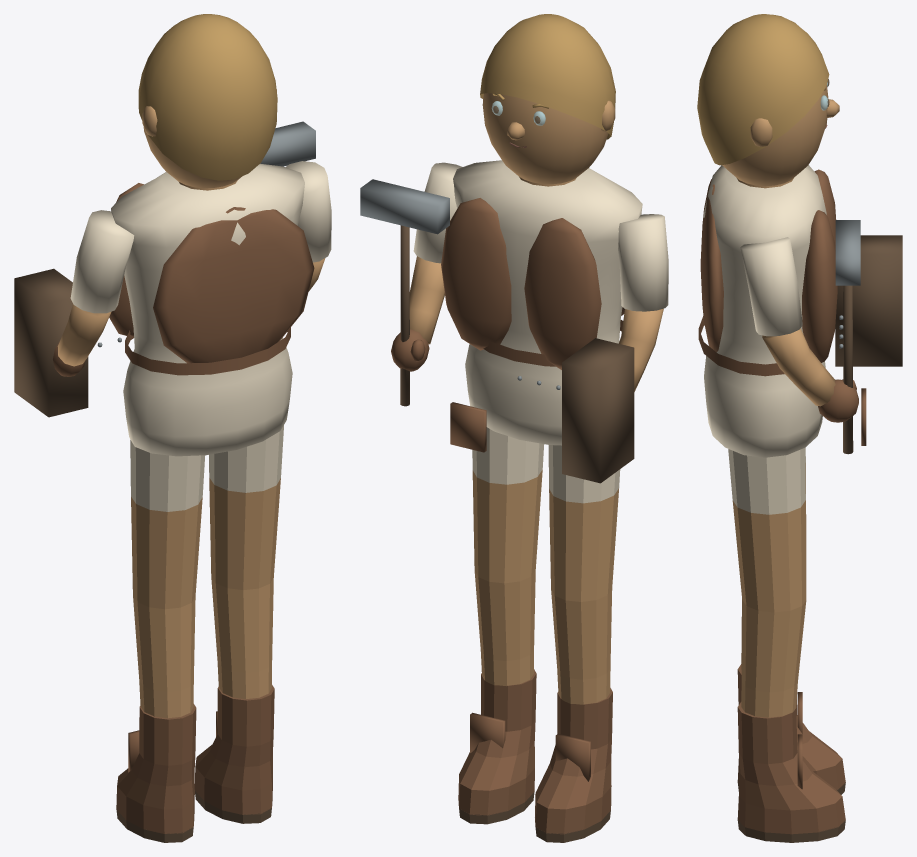
File: SM_NPC_NACAR.glb
The picture shows the model from 3 angles, left to right: view 1: azimuth 30°, elevation 25°; view 2: azimuth 150°, elevation 25°; view 3: azimuth 270°, elevation 25°; orthographic projection. The views are drawn at different scales.
Parts seen in each view (by area): view 1: SM_NPC_NACAR_BODY, SM_NPC_NACAR_LEG_L, SM_NPC_NACAR_LEG_R, SM_NPC_NACAR_HAIR, SM_NPC_NACAR_ARM_L, SM_NPC_NACAR_ARM_R, SM_NPC_NACAR_HEAD; view 2: SM_NPC_NACAR_BODY, SM_NPC_NACAR_LEG_R, SM_NPC_NACAR_LEG_L, SM_NPC_NACAR_ARM_L, SM_NPC_NACAR_HAIR, SM_NPC_NACAR_ARM_R, SM_NPC_NACAR_HEAD; view 3: SM_NPC_NACAR_BODY, SM_NPC_NACAR_LEG_R, SM_NPC_NACAR_HAIR, SM_NPC_NACAR_ARM_R, SM_NPC_NACAR_ARM_L, SM_NPC_NACAR_HEAD, SM_NPC_NACAR_LEG_L.
Part boxes in pixels (bbox=[...]): SM_NPC_NACAR_BODY: bbox=[97, 163, 314, 456]; SM_NPC_NACAR_LEG_L: bbox=[116, 440, 205, 842]; SM_NPC_NACAR_LEG_R: bbox=[194, 425, 283, 823]; SM_NPC_NACAR_HAIR: bbox=[138, 14, 277, 180]; SM_NPC_NACAR_ARM_L: bbox=[14, 210, 134, 417]; SM_NPC_NACAR_ARM_R: bbox=[260, 121, 331, 291]; SM_NPC_NACAR_HEAD: bbox=[142, 89, 276, 188]; SM_NPC_NACAR_BODY: bbox=[441, 160, 642, 452]; SM_NPC_NACAR_LEG_R: bbox=[458, 427, 544, 824]; SM_NPC_NACAR_LEG_L: bbox=[535, 445, 620, 842]; SM_NPC_NACAR_ARM_L: bbox=[562, 214, 668, 483]; SM_NPC_NACAR_HAIR: bbox=[480, 14, 615, 139]; SM_NPC_NACAR_ARM_R: bbox=[360, 162, 462, 406]; SM_NPC_NACAR_HEAD: bbox=[482, 93, 615, 184]; SM_NPC_NACAR_BODY: bbox=[698, 165, 866, 457]; SM_NPC_NACAR_LEG_R: bbox=[728, 447, 845, 842]; SM_NPC_NACAR_HAIR: bbox=[697, 14, 829, 165]; SM_NPC_NACAR_ARM_R: bbox=[740, 220, 860, 454]; SM_NPC_NACAR_ARM_L: bbox=[835, 235, 902, 366]; SM_NPC_NACAR_HEAD: bbox=[722, 85, 839, 186]; SM_NPC_NACAR_LEG_L: bbox=[737, 456, 845, 794].
Bounding box in the file's own units: 0.6391 × 1.81 × 0.4264.
